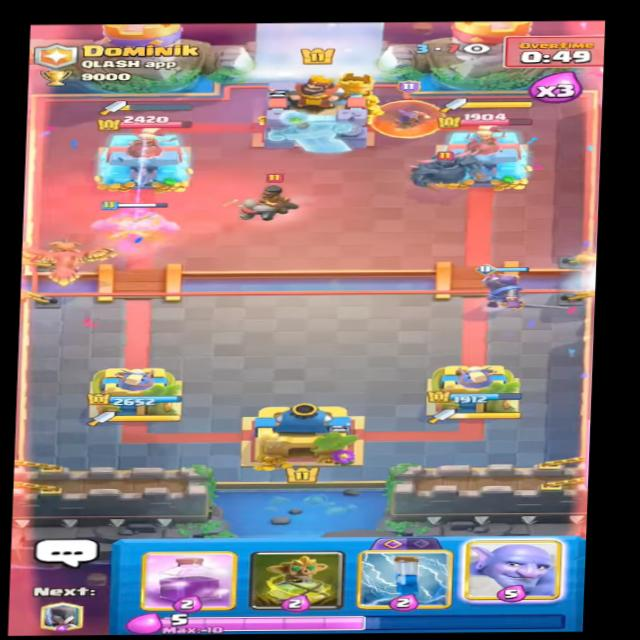evo-wizard: (364, 82, 460, 140)
pekka: (409, 146, 494, 191)
ram-rider: (232, 169, 300, 228)
